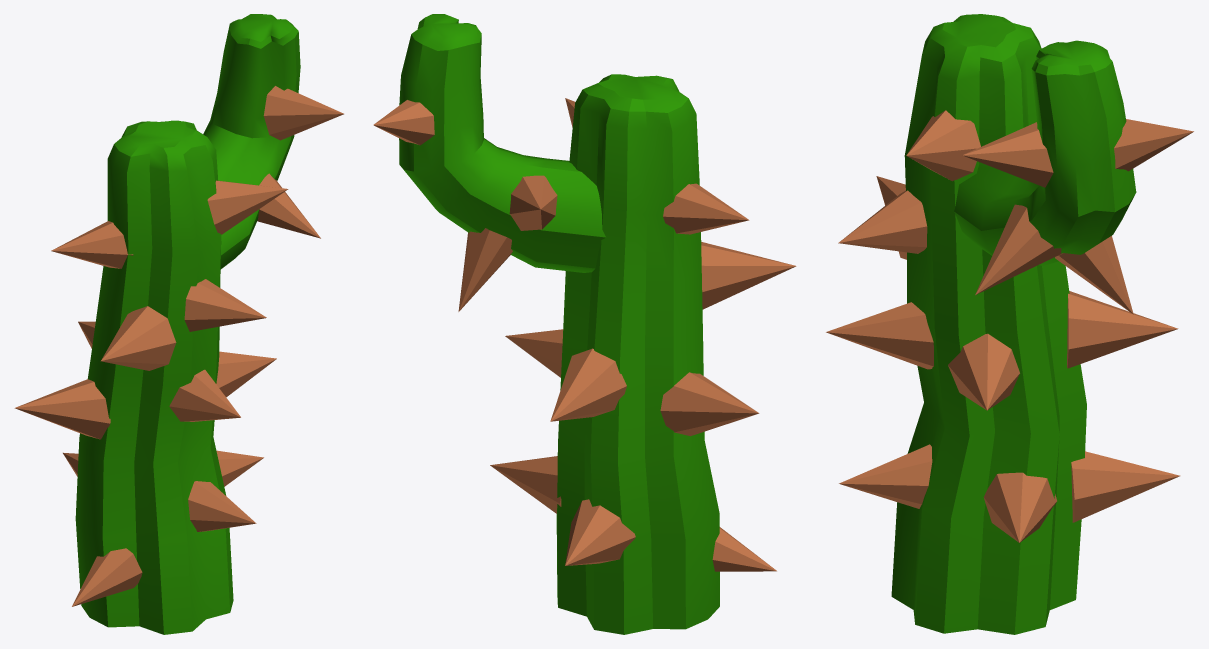
The model's file is Background_Cactus_middle.fbx.
3 views of the same model, side by side, from view 1: azimuth 30°, elevation 25°; view 2: azimuth 150°, elevation 25°; view 3: azimuth 270°, elevation 25° (orthographic). The views are drawn at different scales.
Visible parts, largest first — view 1: Background_Cactus_middle; view 2: Background_Cactus_middle; view 3: Background_Cactus_middle.
Part boxes in pixels (box(x1,y1,x2,y2)): Background_Cactus_middle: box(14, 14, 343, 634); Background_Cactus_middle: box(373, 14, 796, 634); Background_Cactus_middle: box(826, 14, 1193, 634).
Size of the model in its own units: 2.45 by 2.11 by 3.99.
